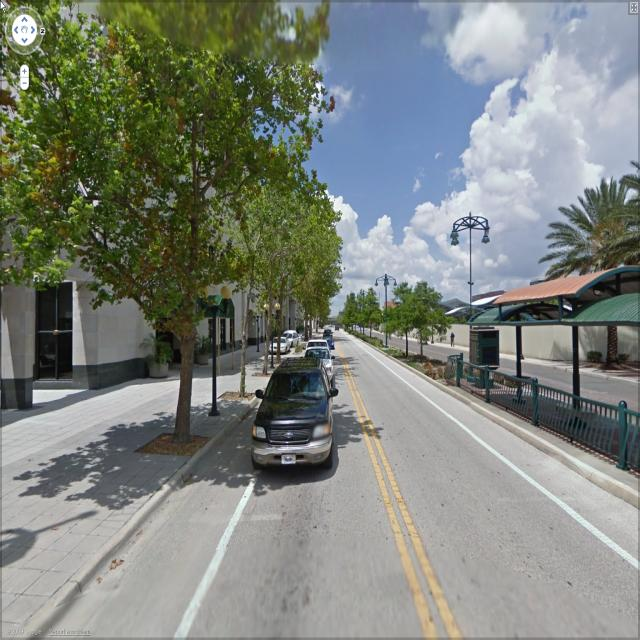b_2: (5, 1, 317, 350)
